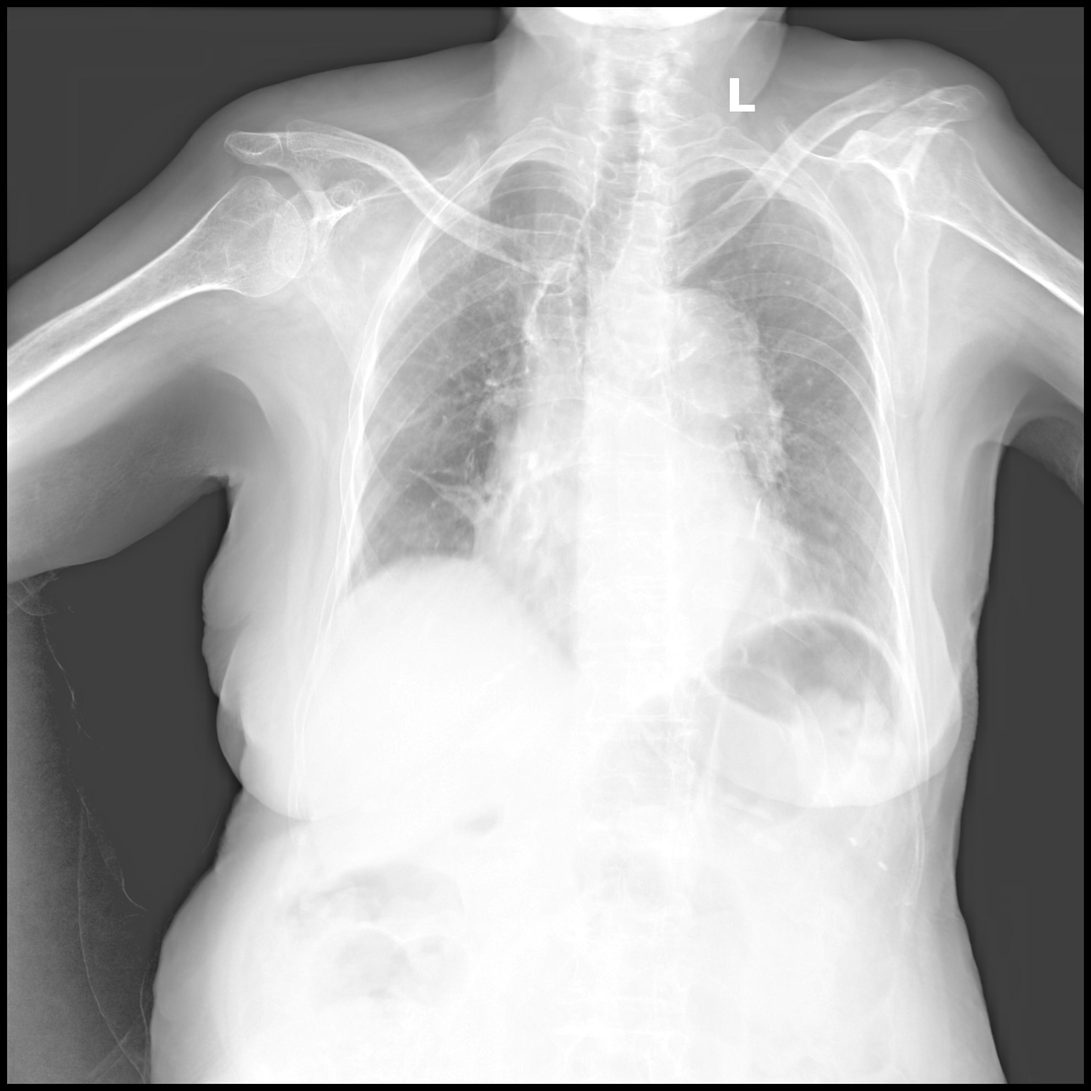Aortic enlargement: (625, 291, 761, 419)
Pulmonary fibrosis: (408, 465, 493, 539)
